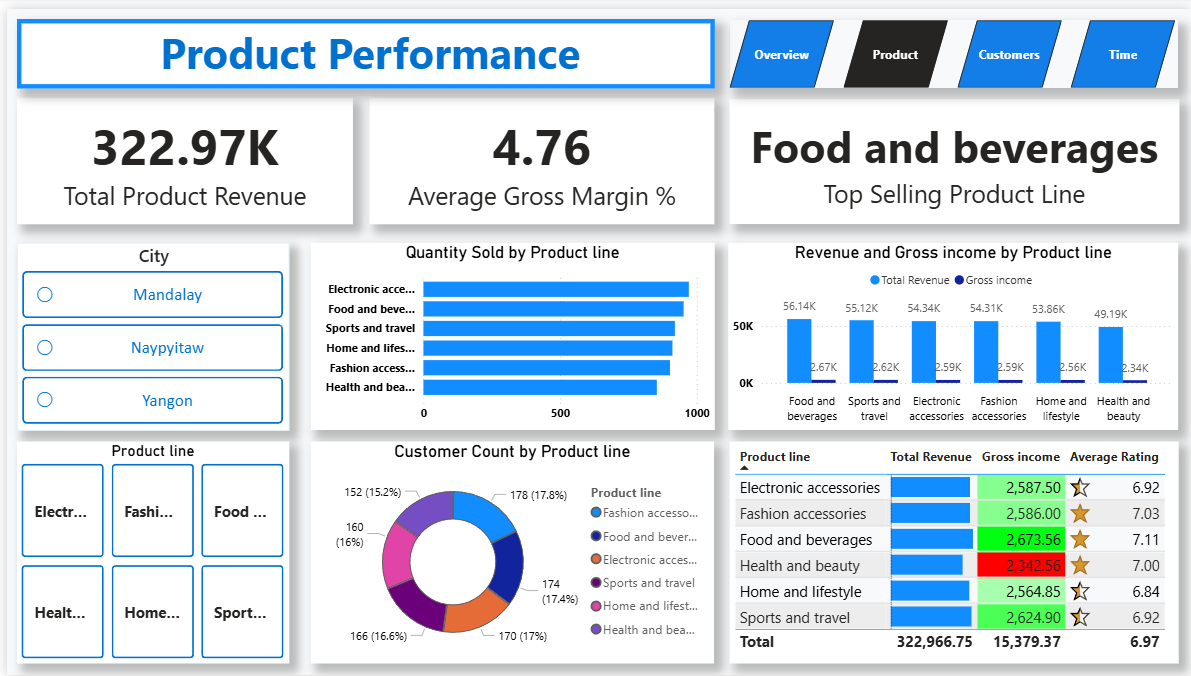

What the dashboard file says about the page in this screenshot:
{"tool":"powerbi","page":{"name":"Product","canvas":[1280,720],"ordinal":1},"visuals":[{"type":"card","fields":{"Values":["Sum(WalmartSalesData.Total Revenue)"]},"box":[10.8,95.9,363.5,136.5],"z":0},{"type":"card","fields":{"Values":["Avg(WalmartSalesData.gross margin percentage)"]},"box":[391.9,95.9,373,136.5],"z":1000},{"type":"card","fields":{"Values":["WalmartSalesData.Top Product Line"]},"box":[781.1,97.3,486.5,135.1],"z":2000},{"type":"advancedSlicerVisual","fields":{"Values":["WalmartSalesData.City"]},"box":[11.4,252.9,294.3,202.9],"z":3000},{"type":"clusteredBarChart","title":"Quantity Sold by Product line","fields":{"Category":["WalmartSalesData.Product line"],"Y":["Sum(WalmartSalesData.Quantity)"]},"box":[328.4,252.7,436.5,202.7],"z":4000},{"type":"clusteredColumnChart","title":"Revenue and Gross income by Product line","fields":{"Category":["WalmartSalesData.Product line"],"Y":["Sum(WalmartSalesData.Total Revenue)","Sum(WalmartSalesData.gross income)"]},"box":[779.7,252.7,486.5,202.7],"z":5000},{"type":"donutChart","fields":{"Category":["WalmartSalesData.Product line"],"Y":["WalmartSalesData.Customer Count"]},"box":[328.6,467.1,435.7,240],"z":6000},{"type":"tableEx","fields":{"Values":["WalmartSalesData.Product line","Sum(WalmartSalesData.Total Revenue)","Sum(WalmartSalesData.gross income)","Avg(WalmartSalesData.Average Rating)"]},"box":[781.4,467.1,485.7,240],"z":7000},{"type":"advancedSlicerVisual","fields":{"Values":["WalmartSalesData.Product line"]},"box":[11.4,467.1,294.3,240],"z":8000},{"type":"pageNavigator","box":[781.7,11.7,485,73.3],"z":9000},{"type":"textbox","title":"Product Performance","box":[11.1,11.1,754.2,75],"z":10000}]}

Visuals, with their boxes in screenshot pixels (x1, y1, x2, y2), scaled from the page's 1280x720 canvas onto the 1191x676 screenshot:
card - Sum(WalmartSalesData.Total Revenue): (left=10, top=90, right=348, bottom=218)
card - Avg(WalmartSalesData.gross margin percentage): (left=365, top=90, right=712, bottom=218)
card - WalmartSalesData.Top Product Line: (left=727, top=91, right=1179, bottom=218)
advancedSlicerVisual - WalmartSalesData.City: (left=11, top=237, right=284, bottom=428)
"Quantity Sold by Product line" clusteredBarChart: (left=306, top=237, right=712, bottom=428)
"Revenue and Gross income by Product line" clusteredColumnChart: (left=725, top=237, right=1178, bottom=428)
donutChart - WalmartSalesData.Product line x WalmartSalesData.Customer Count: (left=306, top=439, right=711, bottom=664)
tableEx - WalmartSalesData.Product line x Sum(WalmartSalesData.Total Revenue): (left=727, top=439, right=1179, bottom=664)
advancedSlicerVisual - WalmartSalesData.Product line: (left=11, top=439, right=284, bottom=664)
pageNavigator: (left=727, top=11, right=1179, bottom=80)
"Product Performance" textbox: (left=10, top=10, right=712, bottom=81)
